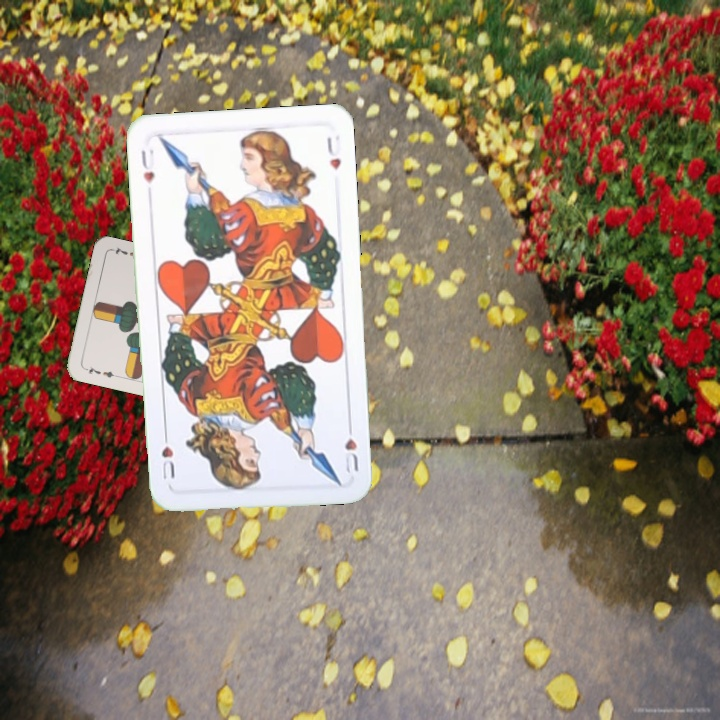E7: (80, 363, 121, 380)
HU: (340, 418, 361, 475), (137, 145, 157, 186)
